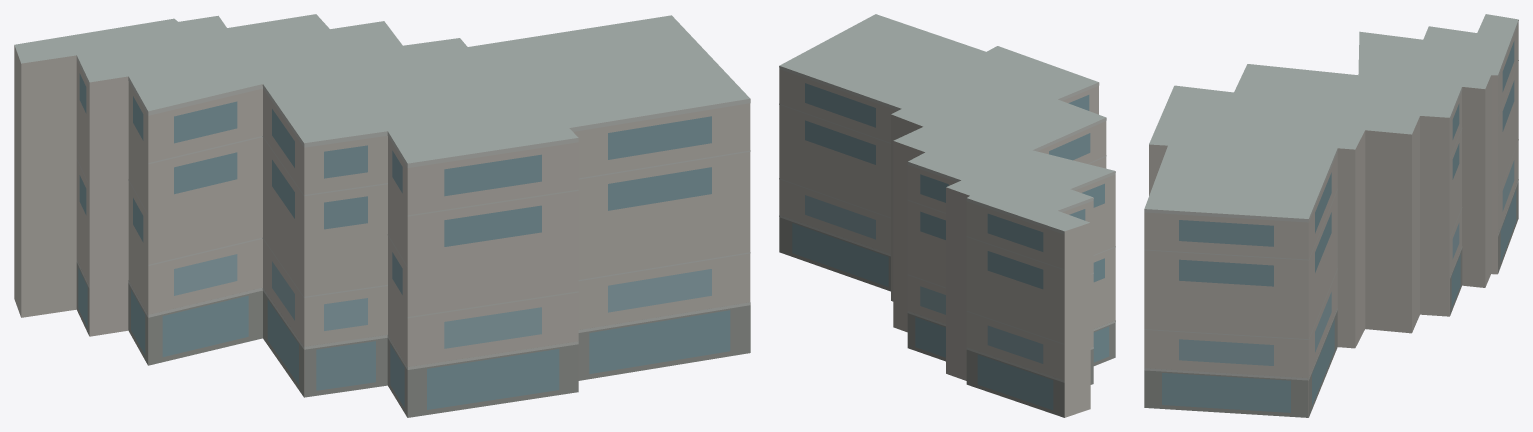
Rendered from survey-upis-33014771.glb.
The picture shows the model from 3 angles, left to right: view 1: azimuth 30°, elevation 25°; view 2: azimuth 150°, elevation 25°; view 3: azimuth 270°, elevation 25°; orthographic projection. The views are drawn at different scales.
Visible parts, largest first — view 1: survey-upis-33014771.tmp; view 2: survey-upis-33014771.tmp; view 3: survey-upis-33014771.tmp.
Boxes of the visible parts, x1=… form: survey-upis-33014771.tmp: x1=14, y1=14, x2=750, y2=417; survey-upis-33014771.tmp: x1=779, y1=14, x2=1115, y2=417; survey-upis-33014771.tmp: x1=1144, y1=14, x2=1518, y2=417.
Size of the model in its own units: 30.54 by 13.8 by 23.57.
